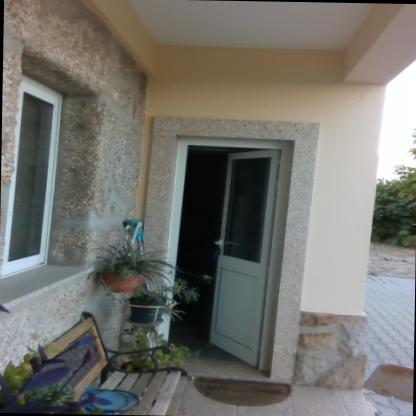semi: (150, 127, 305, 381)
